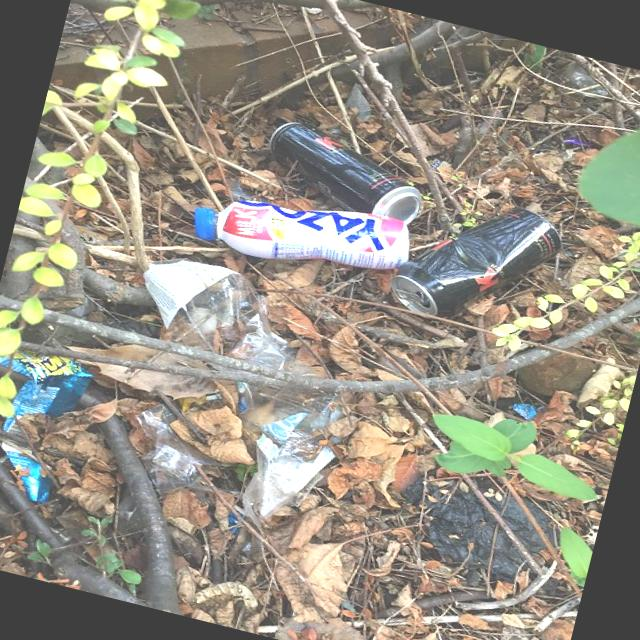Recycle: (185, 166, 418, 292), (386, 185, 566, 344), (258, 112, 437, 224)
